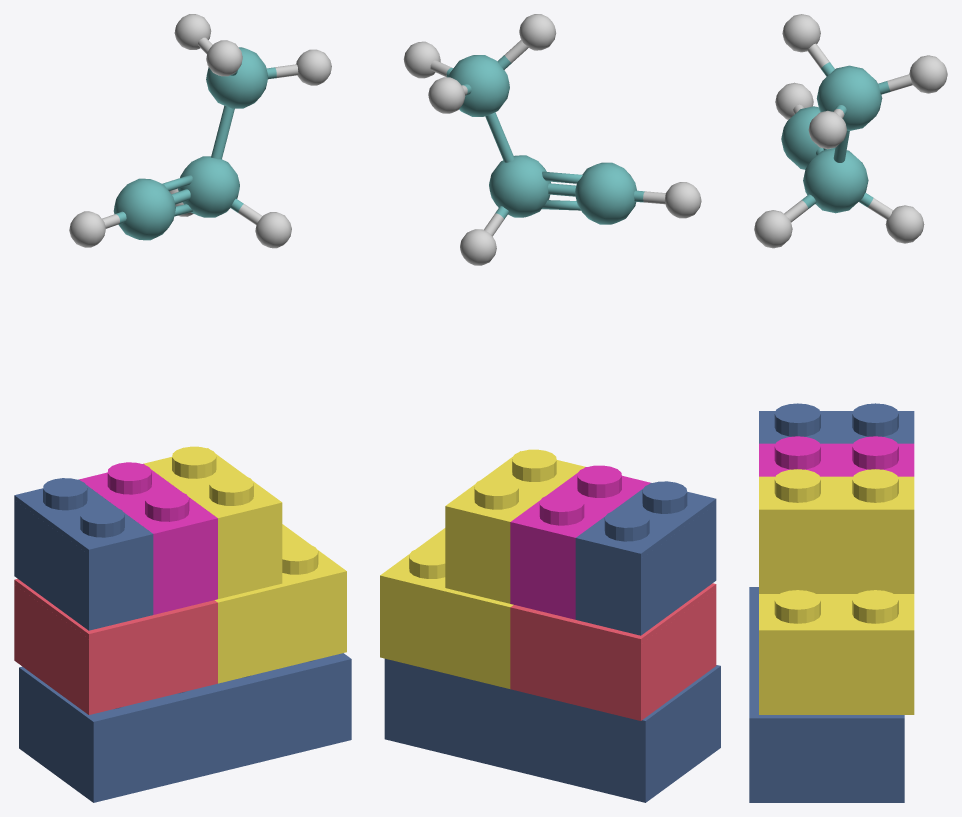
The model's file is click1A.glb.
The picture shows the model from 3 angles, left to right: view 1: azimuth 30°, elevation 25°; view 2: azimuth 150°, elevation 25°; view 3: azimuth 270°, elevation 25°; orthographic projection. The views are drawn at different scales.
Parts seen in each view (by area): view 1: obj_5, clA; view 2: obj_5, clA; view 3: obj_5, clA.
Part boxes in pixels (x1=…): obj_5: x1=14, y1=446, x2=351, y2=802; clA: x1=69, y1=14, x2=331, y2=248; obj_5: x1=380, y1=449, x2=720, y2=802; clA: x1=403, y1=14, x2=701, y2=265; obj_5: x1=749, y1=403, x2=914, y2=802; clA: x1=754, y1=14, x2=947, y2=248.
Bounding box in the file's own units: 1.7 × 4.18 × 1.02.
